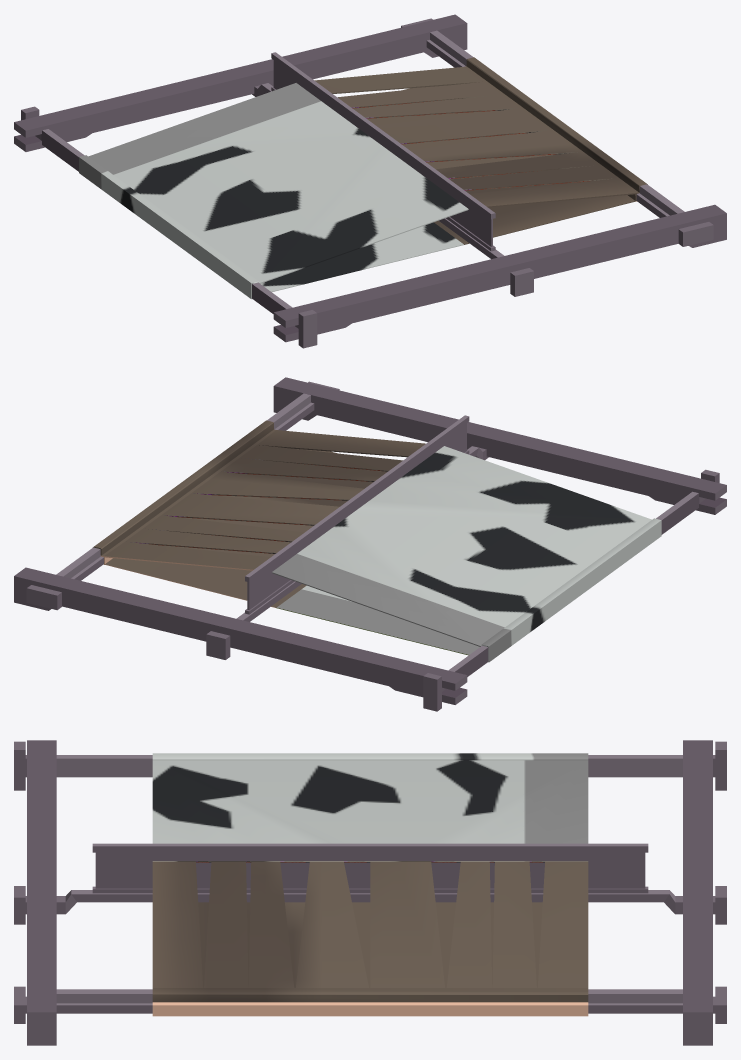
Rendered from Loomv3.fbx.
The picture shows the model from 3 angles, top to bottom: view 1: azimuth 30°, elevation 25°; view 2: azimuth 150°, elevation 25°; view 3: azimuth 270°, elevation 25°; orthographic projection. The views are drawn at different scales.
Visible parts, largest first — view 1: Loomv3; view 2: Loomv3; view 3: Loomv3.
Part boxes in pixels (x1,y1,x2,y2): Loomv3: (14,14,726,348); Loomv3: (14,377,726,711); Loomv3: (14,740,726,1045).
Size of the model in its own units: 0.3662 by 0.0462 by 0.4057.
1 material, 1 textured.
